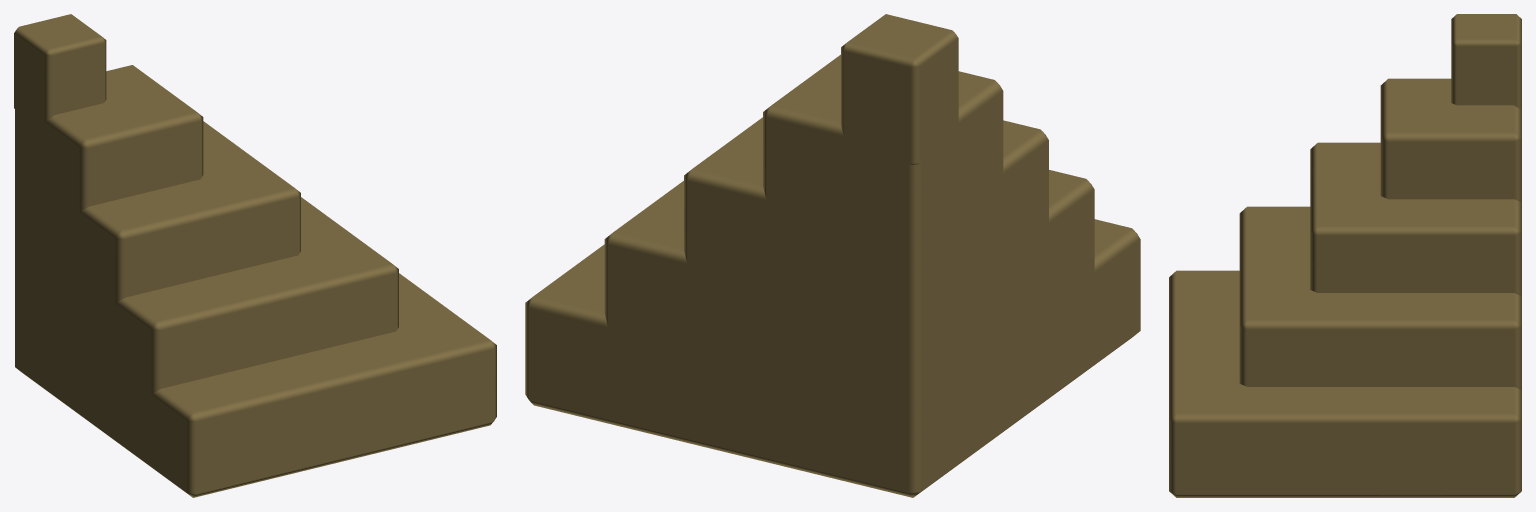
File: village-roof-corner.f7b9c152.glb
3 views of the same model, side by side, from view 1: azimuth 30°, elevation 25°; view 2: azimuth 150°, elevation 25°; view 3: azimuth 270°, elevation 25° (orthographic). The views are drawn at different scales.
Visible parts, largest first — view 1: body; view 2: body; view 3: body.
Boxes of the visible parts, <box> form: body: <box>14,14,496,497</box>; body: <box>525,14,1140,497</box>; body: <box>1169,14,1521,497</box>.
Bounding box in the file's own units: 1.25 × 1.33 × 1.25.
